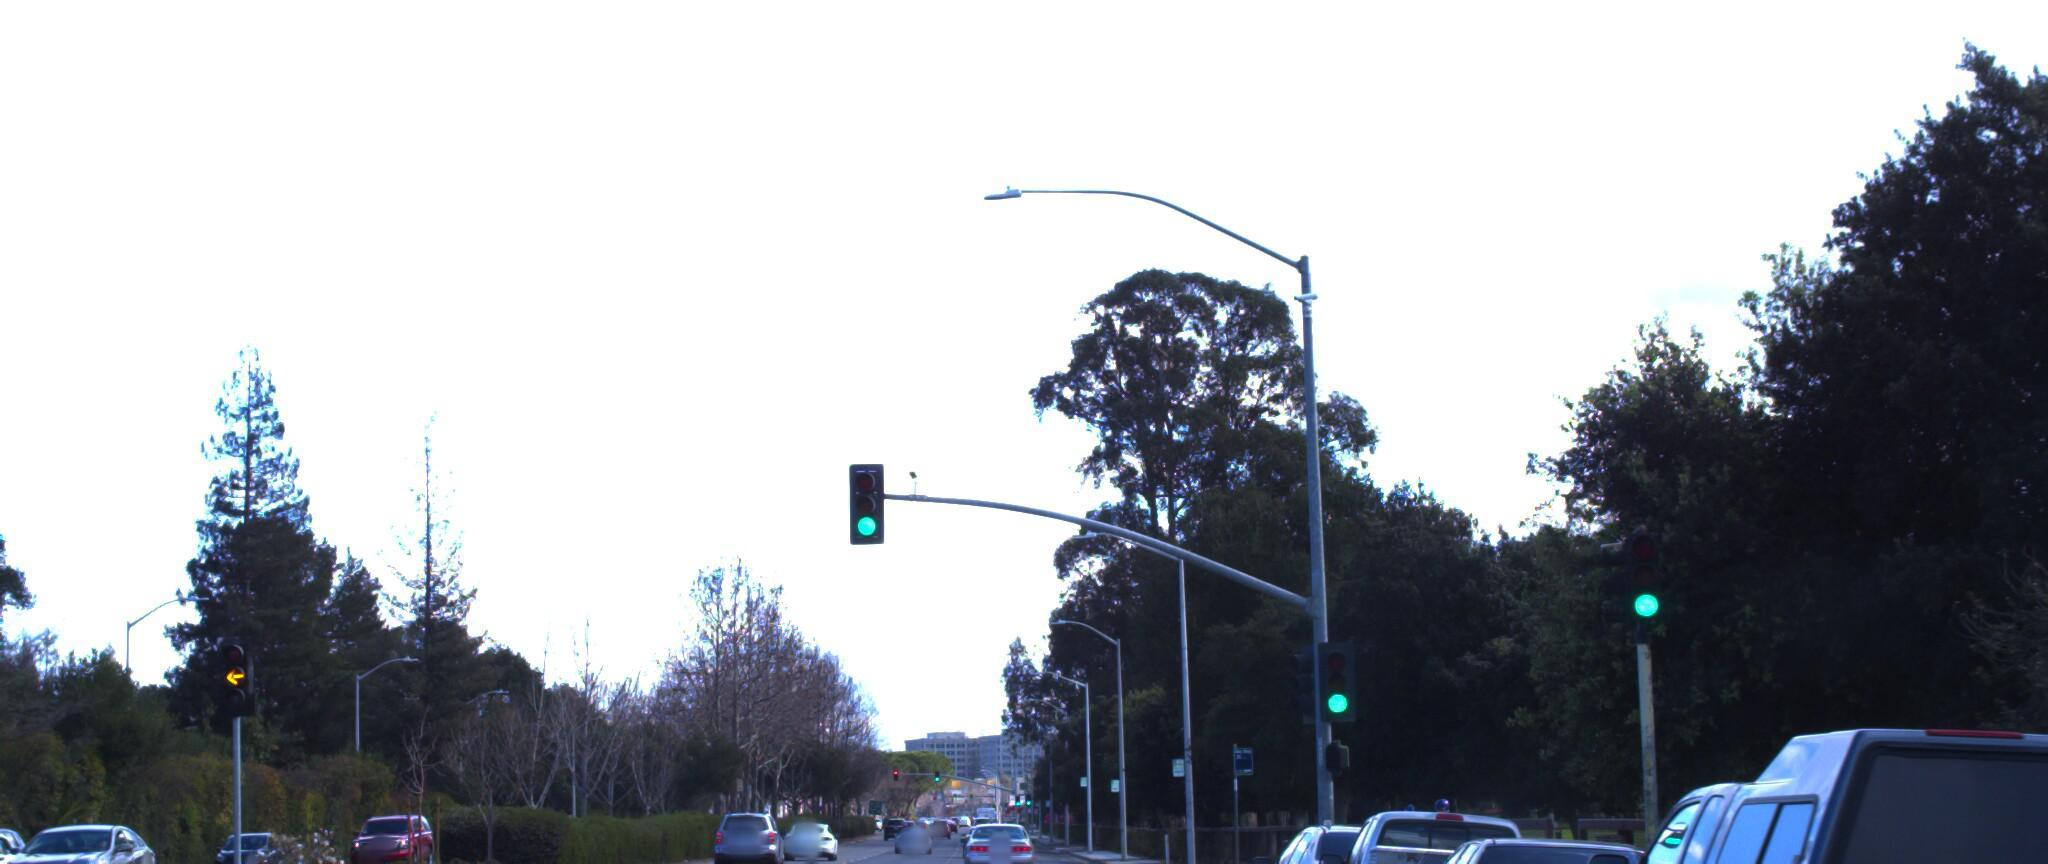car: (1546, 703, 2048, 864), (1313, 799, 1599, 864), (1378, 824, 1735, 864), (1242, 810, 1488, 864), (0, 797, 180, 864), (1814, 816, 2048, 864), (953, 808, 1027, 864), (0, 812, 46, 864)
